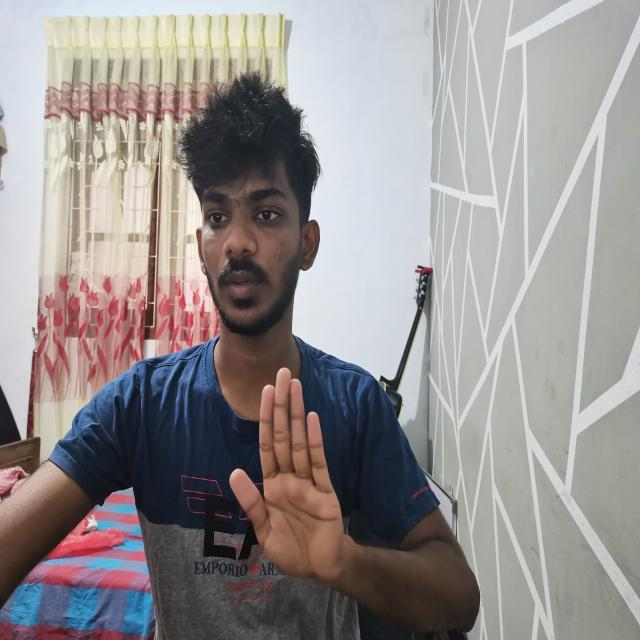Hello: (229, 360, 356, 590)
